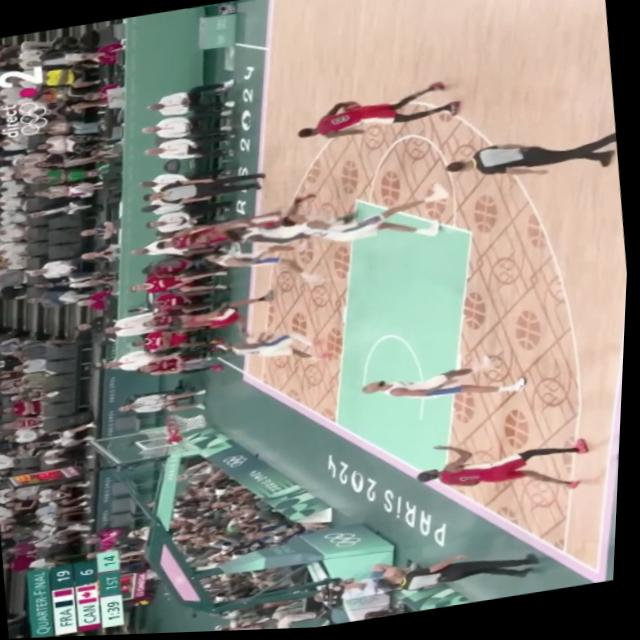ball_handler: (295, 82, 464, 146)
